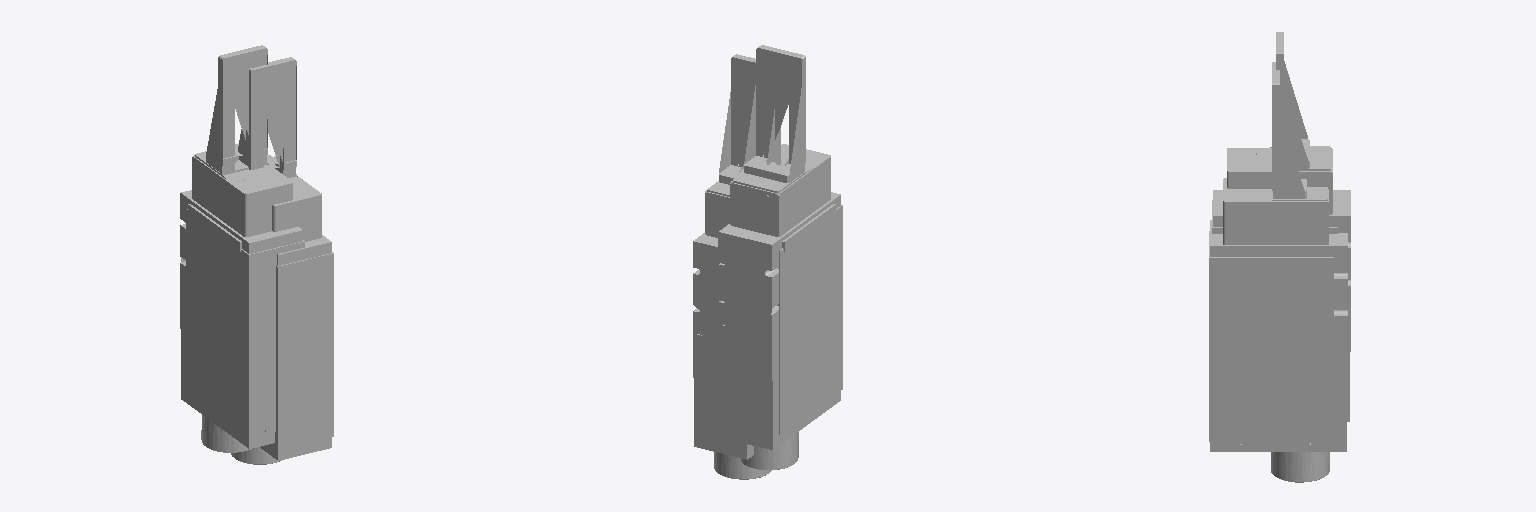
File: bv1_test_rendering_holoLens_objFile.obj
3 renders of one model, left to right at view 1: azimuth 30°, elevation 25°; view 2: azimuth 150°, elevation 25°; view 3: azimuth 270°, elevation 25°, orthographic.
Parts seen in each view (by area): view 1: 03_BVe1_Optics_Assy-Hybrid_BVe1_Optics_Assy-Hybrid, 03_BVe1_Optics_Assy-low_poly.002_BVe1_Optics_Assy-Hybrid.002; view 2: 03_BVe1_Optics_Assy-Hybrid_BVe1_Optics_Assy-Hybrid, 03_BVe1_Optics_Assy-low_poly.002_BVe1_Optics_Assy-Hybrid.002; view 3: 03_BVe1_Optics_Assy-low_poly.002_BVe1_Optics_Assy-Hybrid.002, 03_BVe1_Optics_Assy-Hybrid_BVe1_Optics_Assy-Hybrid.
Part boxes in pixels (bbox=[...]): 03_BVe1_Optics_Assy-Hybrid_BVe1_Optics_Assy-Hybrid: bbox=[180, 45, 304, 452]; 03_BVe1_Optics_Assy-low_poly.002_BVe1_Optics_Assy-Hybrid.002: bbox=[231, 57, 333, 464]; 03_BVe1_Optics_Assy-Hybrid_BVe1_Optics_Assy-Hybrid: bbox=[718, 45, 842, 469]; 03_BVe1_Optics_Assy-low_poly.002_BVe1_Optics_Assy-Hybrid.002: bbox=[693, 54, 780, 479]; 03_BVe1_Optics_Assy-low_poly.002_BVe1_Optics_Assy-Hybrid.002: bbox=[1209, 62, 1347, 482]; 03_BVe1_Optics_Assy-Hybrid_BVe1_Optics_Assy-Hybrid: bbox=[1212, 32, 1350, 421].
Size of the model in its own units: 0.6896 by 3.24 by 1.01.